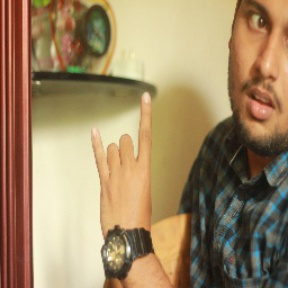V: (88, 86, 161, 241)
